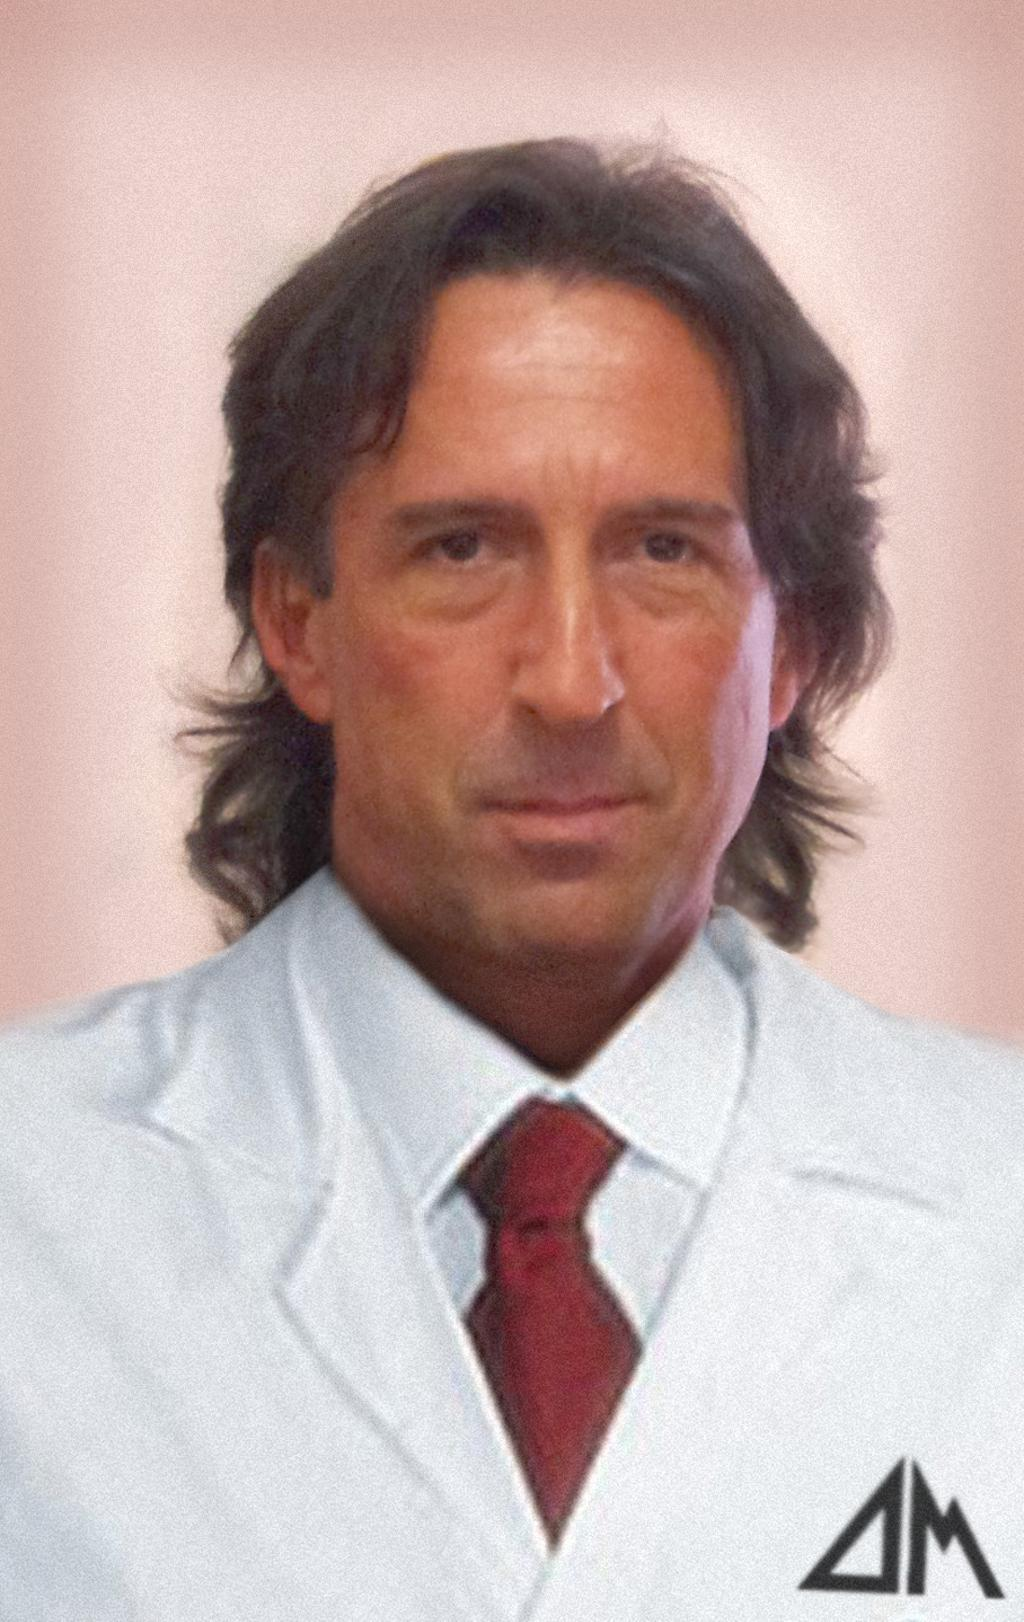face: (334, 274, 771, 975)
